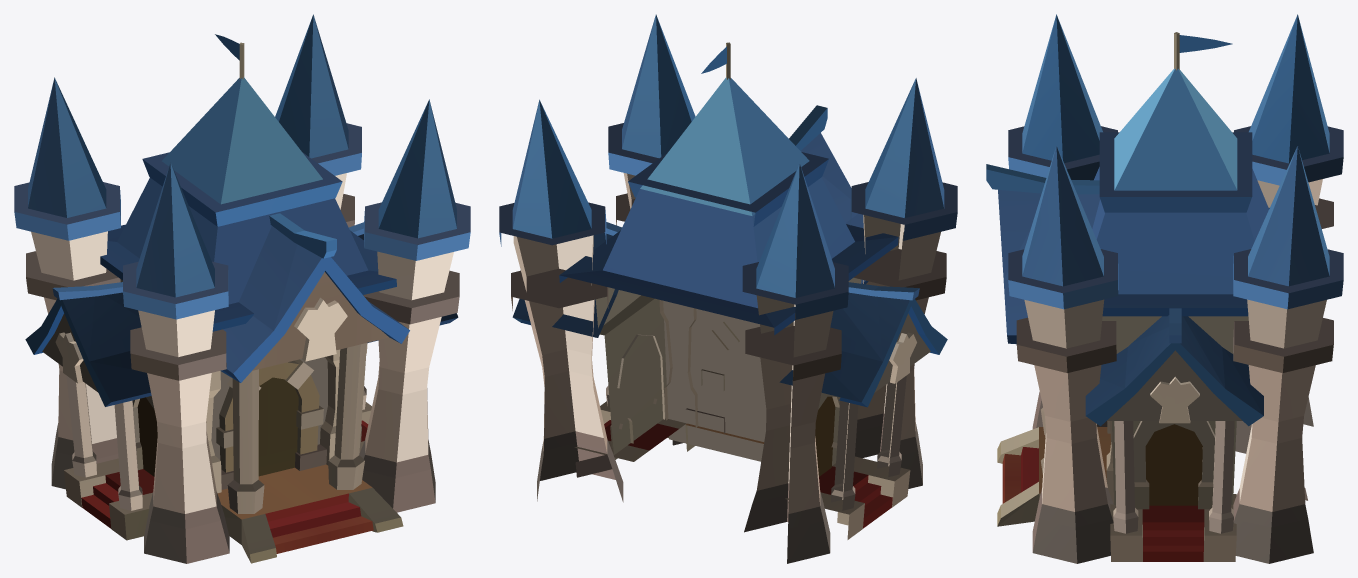
Rendered from castle04.fbx.
The picture shows the model from 3 angles, left to right: view 1: azimuth 30°, elevation 25°; view 2: azimuth 150°, elevation 25°; view 3: azimuth 270°, elevation 25°; orthographic projection. The views are drawn at different scales.
Parts seen in each view (by area): view 1: castle04; view 2: castle04; view 3: castle04.
Part boxes in pixels (box(x1,y1,x2,y2)): castle04: box(14, 14, 470, 563); castle04: box(499, 14, 957, 563); castle04: box(986, 14, 1343, 563).
Size of the model in its own units: 2.84 by 3.2 by 2.27.
1 material, 1 textured.
